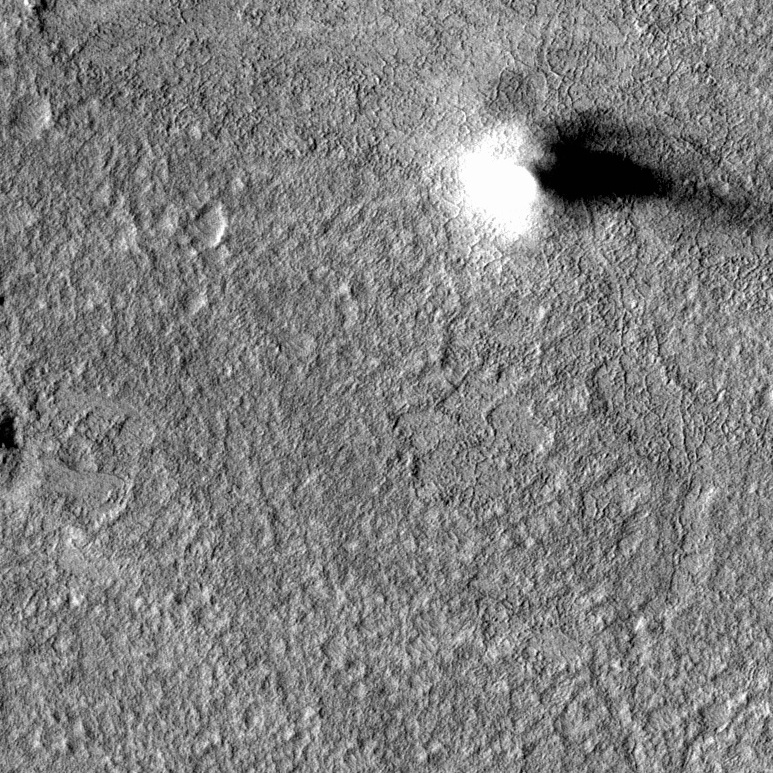dust_devil: (450, 102, 773, 243)
